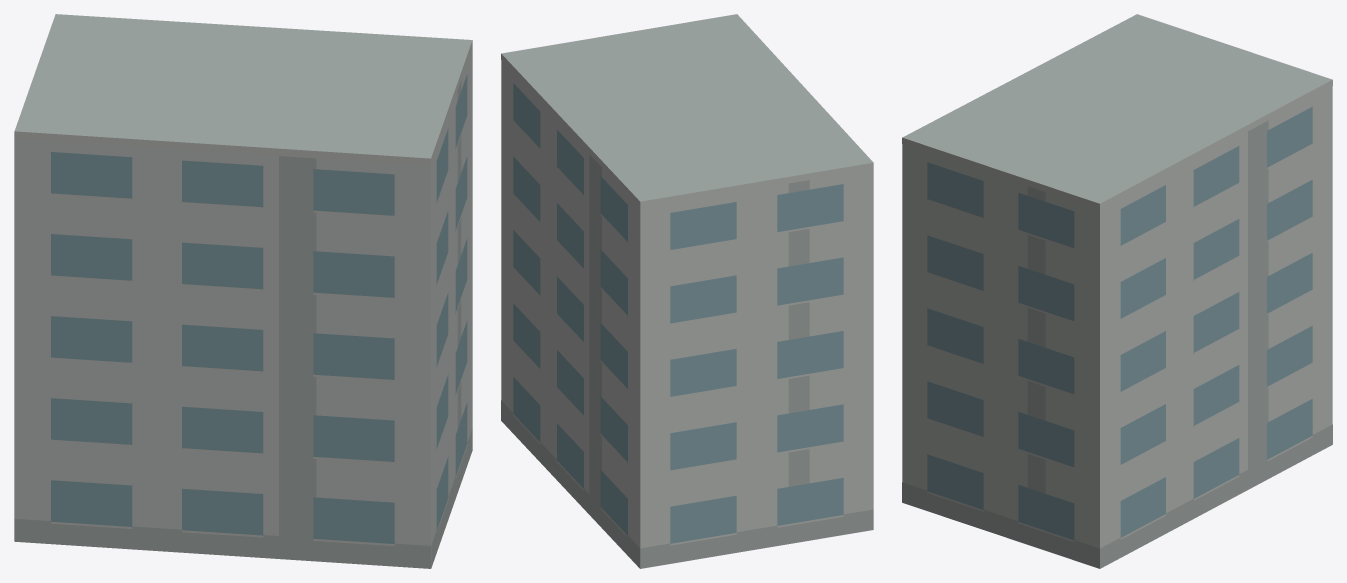
The model's file is survey-upis-32705876.glb.
The picture shows the model from 3 angles, left to right: view 1: azimuth 30°, elevation 25°; view 2: azimuth 150°, elevation 25°; view 3: azimuth 270°, elevation 25°; orthographic projection. The views are drawn at different scales.
Parts seen in each view (by area): view 1: survey-upis-32705876.tmp; view 2: survey-upis-32705876.tmp; view 3: survey-upis-32705876.tmp.
Boxes of the visible parts, <box> form: survey-upis-32705876.tmp: <box>14,14,472,568</box>; survey-upis-32705876.tmp: <box>501,14,873,568</box>; survey-upis-32705876.tmp: <box>902,14,1332,568</box>.
Bounding box in the file's own units: 15.11 × 13.55 × 14.49.
